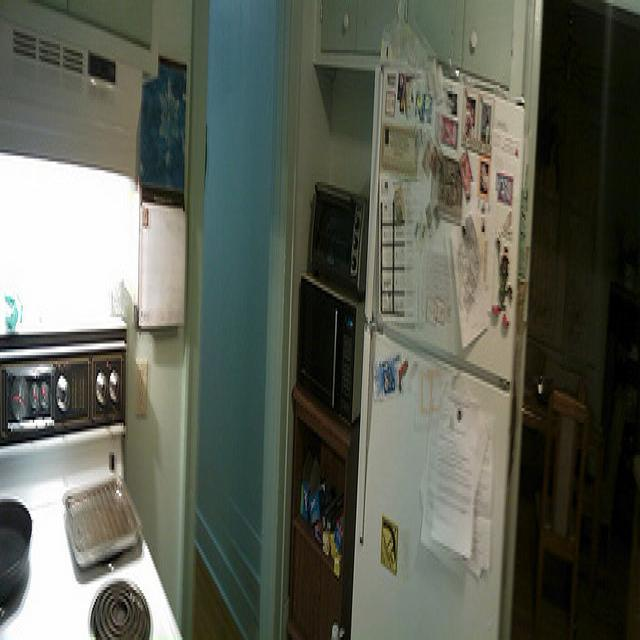chair: (533, 391, 589, 639), (583, 386, 622, 570)
dining table: (522, 392, 605, 596)
